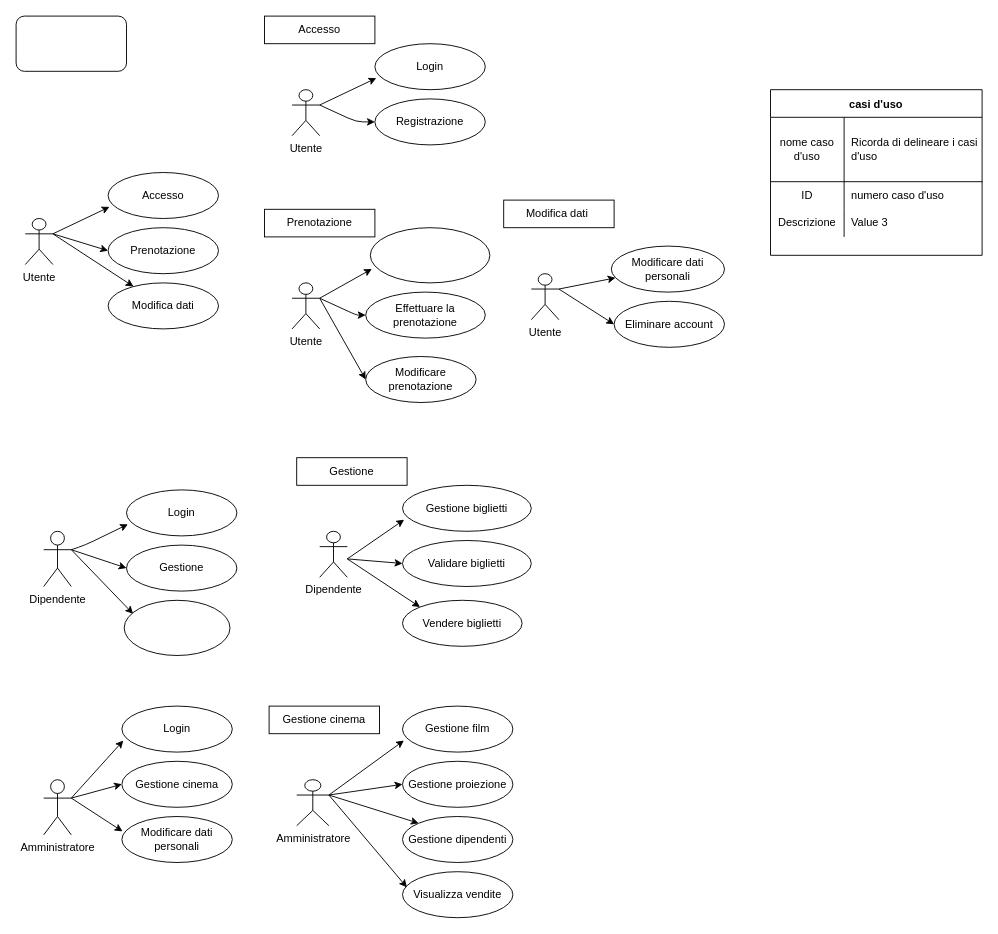
Image size: 998x934. Some labels were removed from this diagram. The shapes that lost their labels are listed below. From the top down, each one's centre as x and y in pixels, then its label:
the point at 70,43: Uso di sistema
the point at 429,255: Visualizzare catalogo film
the point at 176,627: Modificare i propri dati
